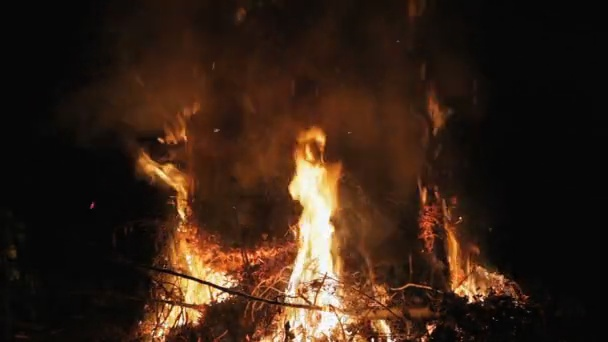fire: (264, 128, 353, 342), (146, 243, 231, 325), (446, 235, 509, 299), (144, 154, 190, 193), (368, 322, 393, 342)
